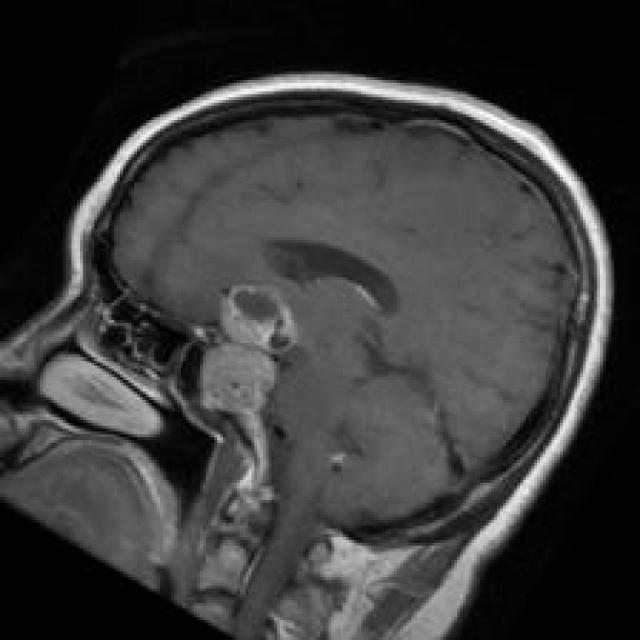pituitary_tumor: (193, 267, 300, 440)
